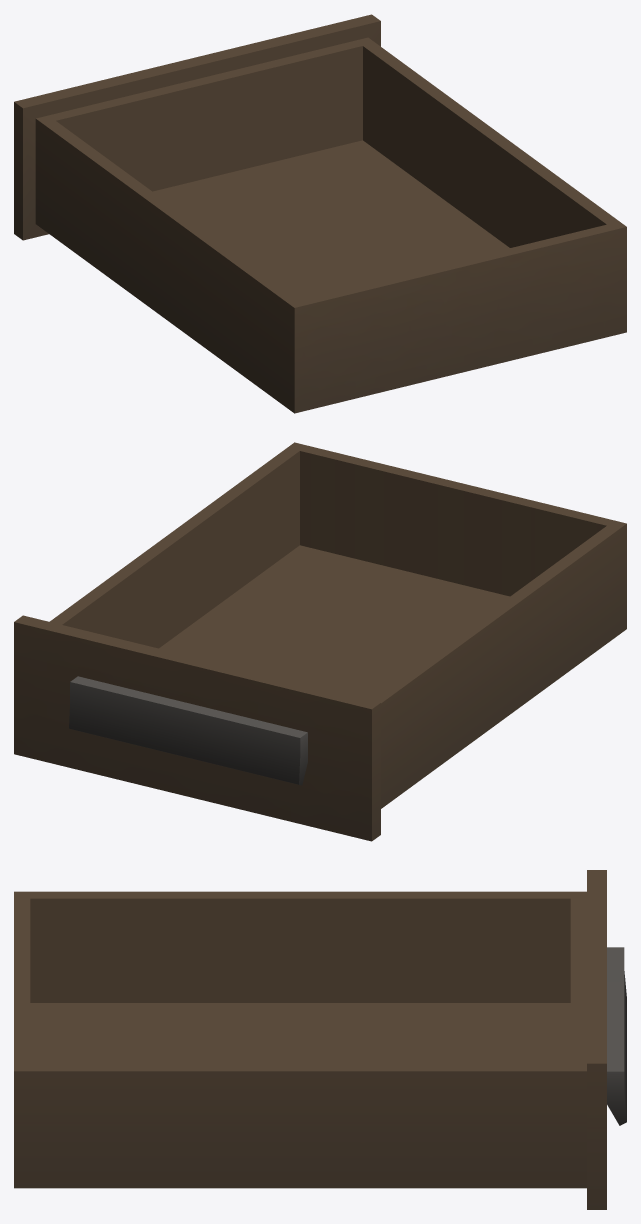
Rendered from Drawer_OfficeDesk2_Top.fbx.
3 renders of one model, top to bottom at view 1: azimuth 30°, elevation 25°; view 2: azimuth 150°, elevation 25°; view 3: azimuth 270°, elevation 25°, orthographic. The views are drawn at different scales.
Parts seen in each view (by area): view 1: Drawer_OfficeDesk2_Top; view 2: Drawer_OfficeDesk2_Top; view 3: Drawer_OfficeDesk2_Top.
Boxes of the visible parts, bbox=[...] form: Drawer_OfficeDesk2_Top: bbox=[14, 14, 626, 413]; Drawer_OfficeDesk2_Top: bbox=[14, 442, 626, 841]; Drawer_OfficeDesk2_Top: bbox=[14, 870, 626, 1209].
Bounding box in the file's own units: 44.19 × 15.6 × 59.19.
